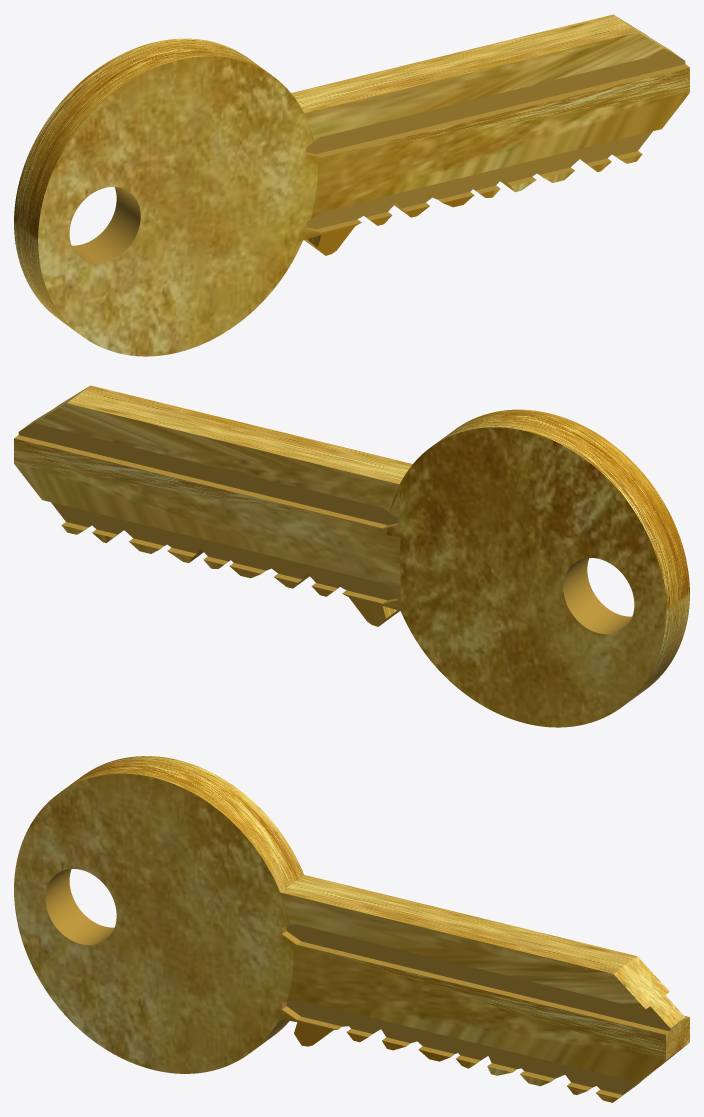
The model's file is gold_key.glb.
3 renders of one model, top to bottom at view 1: azimuth 30°, elevation 25°; view 2: azimuth 150°, elevation 25°; view 3: azimuth 330°, elevation 25°, orthographic.
Visible parts, largest first — view 1: key; view 2: key; view 3: key.
Boxes of the visible parts, x1,y1,x2,y2 form: key: (14,14,689,356); key: (14,385,689,727); key: (14,756,689,1102).
Bounding box in the file's own units: 0.075 × 0.0321 × 0.0048.
Materials: 1 (1 with a texture image).
